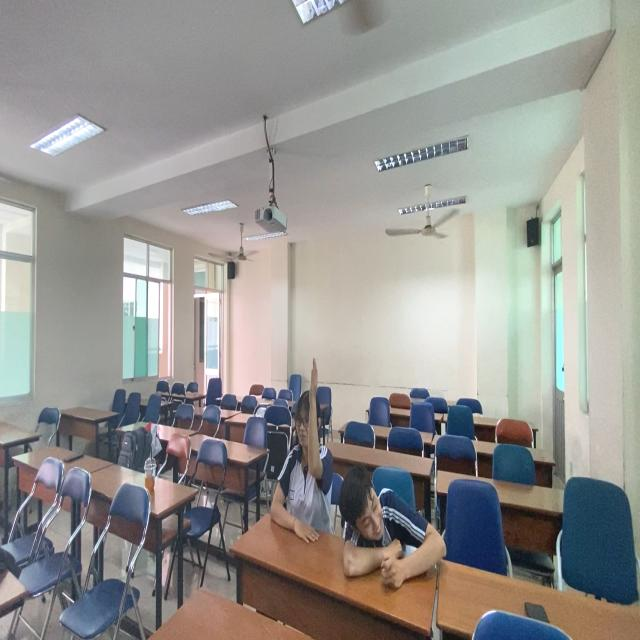raise_hand: (267, 352, 348, 538)
